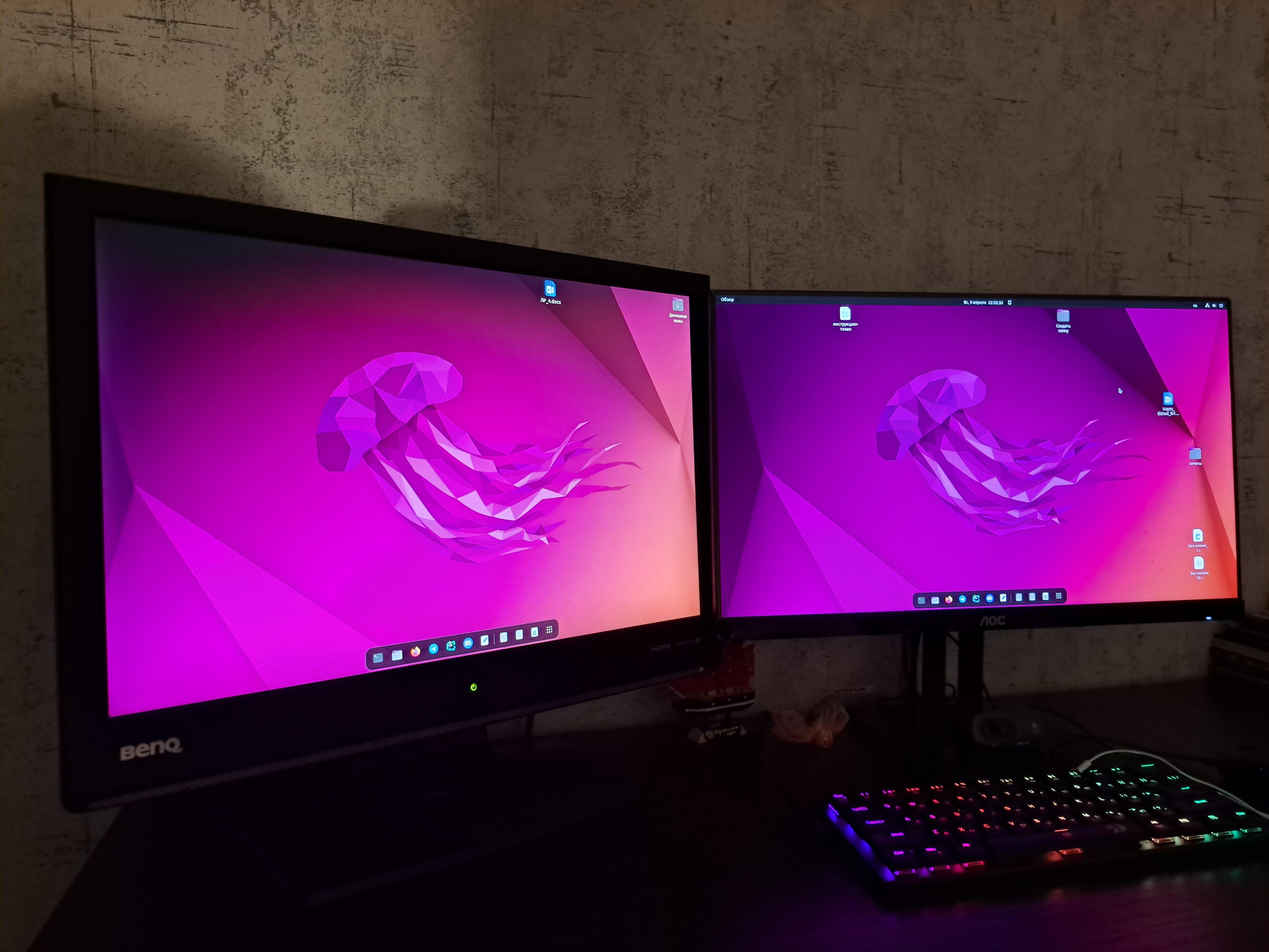monitor: (40, 172, 725, 821), (698, 281, 1249, 645)
